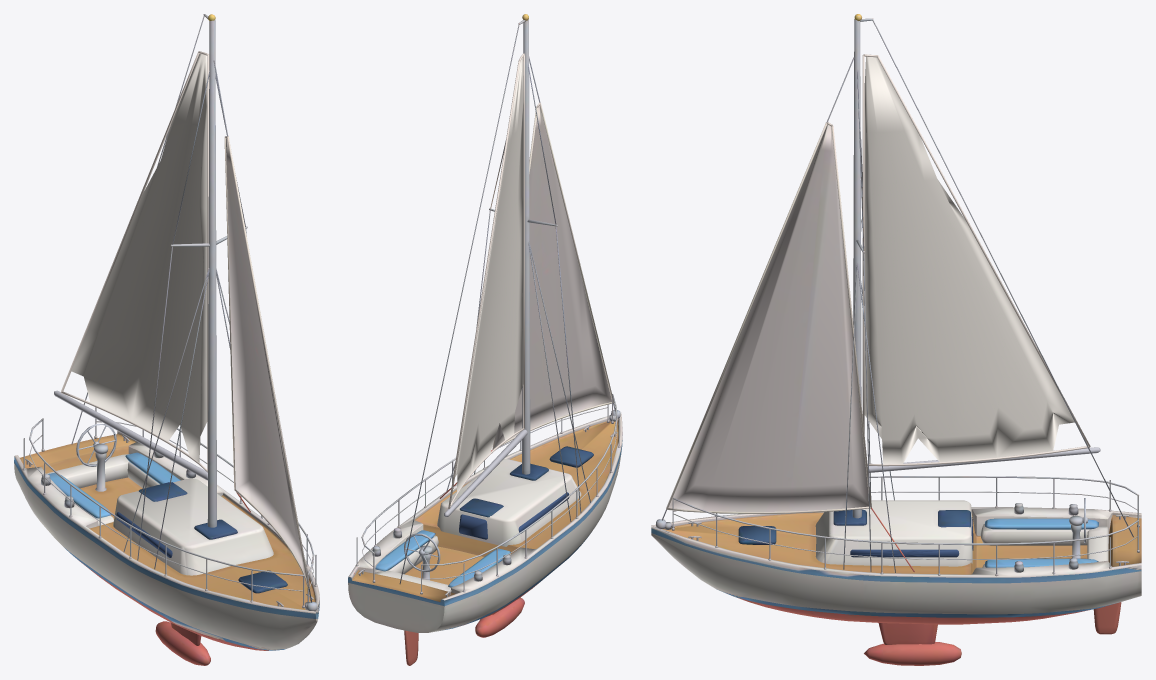
The model's file is sailboat.glb.
3 renders of one model, left to right at view 1: azimuth 30°, elevation 25°; view 2: azimuth 150°, elevation 25°; view 3: azimuth 270°, elevation 25°, orthographic. The views are drawn at different scales.
Parts seen in each view (by area): view 1: sailboat_body, sailboat_boom_mainsail; view 2: sailboat_body, sailboat_boom_mainsail; view 3: sailboat_body, sailboat_boom_mainsail.
Part boxes in pixels (x1=…): sailboat_body: x1=14, y1=14, x2=319, y2=665; sailboat_boom_mainsail: x1=54, y1=51, x2=209, y2=557; sailboat_body: x1=348, y1=14, x2=622, y2=637; sailboat_boom_mainsail: x1=404, y1=53, x2=569, y2=665; sailboat_body: x1=651, y1=14, x2=1141, y2=665; sailboat_boom_mainsail: x1=850, y1=54, x2=1121, y2=634.
Bounding box in the file's own units: 3.04 × 13.17 × 9.
2 materials, 2 textured.
